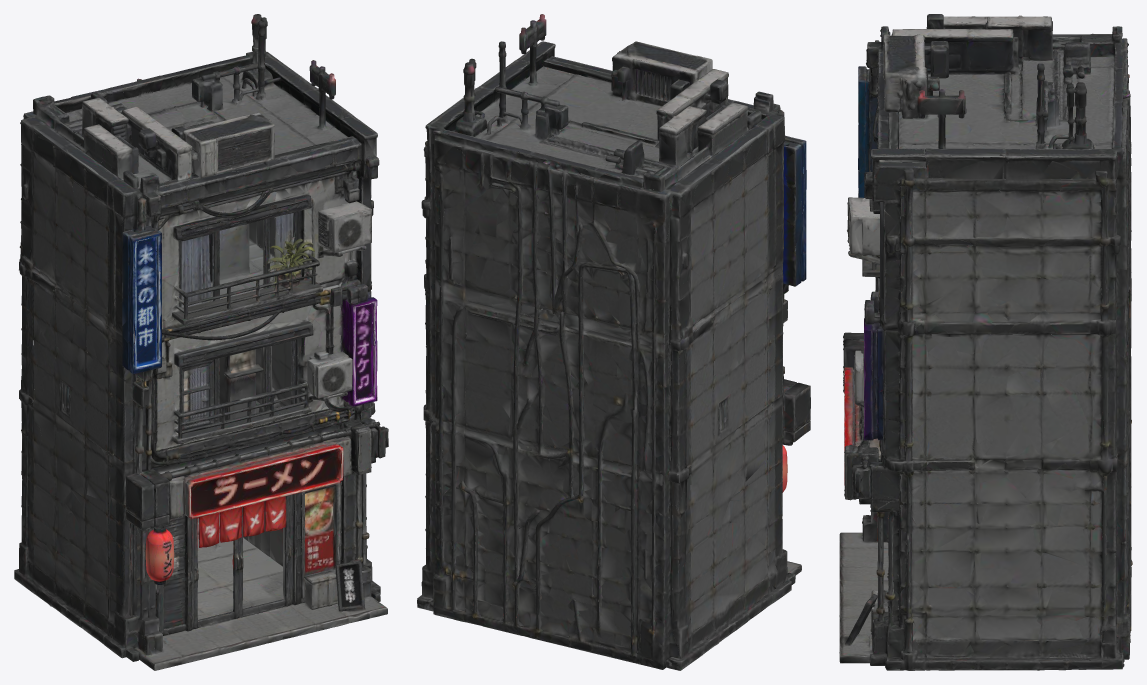
The model's file is building_a.glb.
The picture shows the model from 3 angles, left to right: view 1: azimuth 30°, elevation 25°; view 2: azimuth 150°, elevation 25°; view 3: azimuth 270°, elevation 25°; orthographic projection. The views are drawn at different scales.
Parts seen in each view (by area): view 1: Mesh_0; view 2: Mesh_0; view 3: Mesh_0.
Boxes of the visible parts, x1,y1,x2,y2 form: Mesh_0: (14,14,388,670); Mesh_0: (417,14,810,670); Mesh_0: (839,14,1132,670).
Size of the model in its own units: 15.38 by 30 by 13.71.
Materials: 1 (1 with a texture image).
